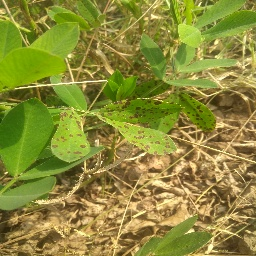GroundNut_Leaf: (1, 98, 52, 177), (1, 47, 69, 86), (107, 123, 179, 158), (52, 109, 92, 165), (95, 96, 178, 121), (182, 93, 220, 135), (204, 9, 254, 39), (1, 181, 56, 207), (138, 31, 166, 82), (158, 228, 215, 253), (179, 58, 239, 72)
